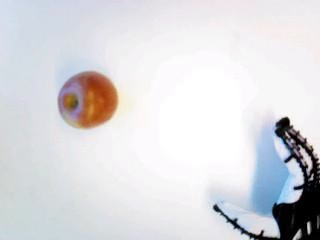apple: (53, 67, 119, 127)
hand: (212, 115, 320, 240)
